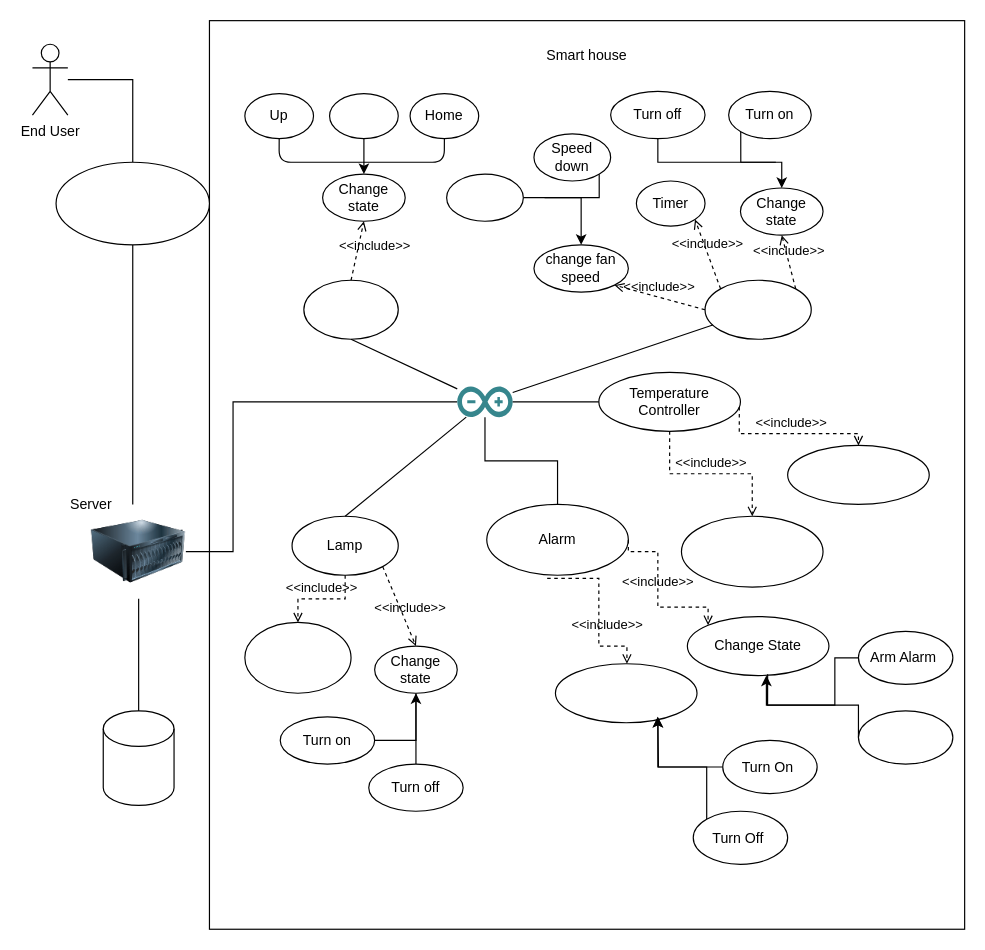
Image size: 985x950. Some labels were removed from this diagram. Each missing label, with the centre of its shape:
"Adjust Temperature" goes at (x=857, y=474).
"Application/UI" goes at (x=132, y=203).
"Curtains" goes at (x=350, y=309).
"Dim Lamp" goes at (x=297, y=657).
"Disarm Alarm" goes at (x=905, y=737).
"Down" goes at (x=363, y=115).
"Fan" goes at (x=757, y=309).
"Read Temperature" goes at (x=751, y=551).
"Sound" goes at (x=625, y=693).
"Speed up" goes at (x=484, y=197).
